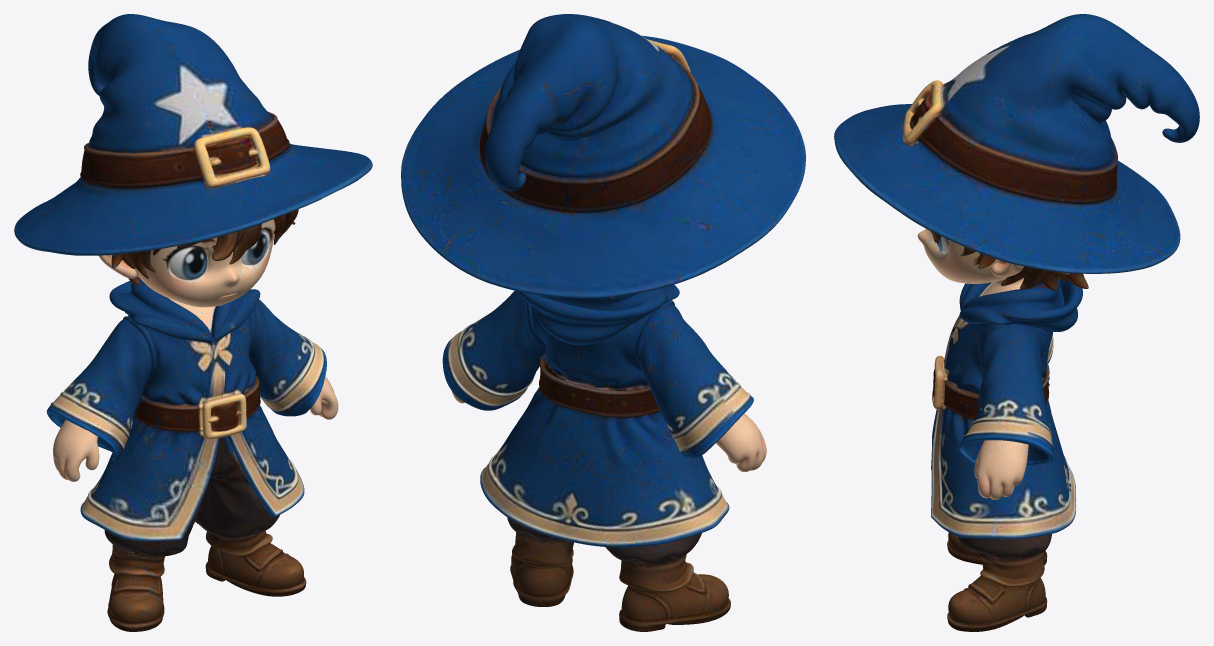
The model's file is mago-colorato.glb.
3 views of the same model, side by side, from view 1: azimuth 30°, elevation 25°; view 2: azimuth 150°, elevation 25°; view 3: azimuth 270°, elevation 25° (orthographic). The views are drawn at different scales.
Bounding box in the file's own units: 1.15 × 1.9 × 1.12.
Materials: 1 (1 with a texture image).
